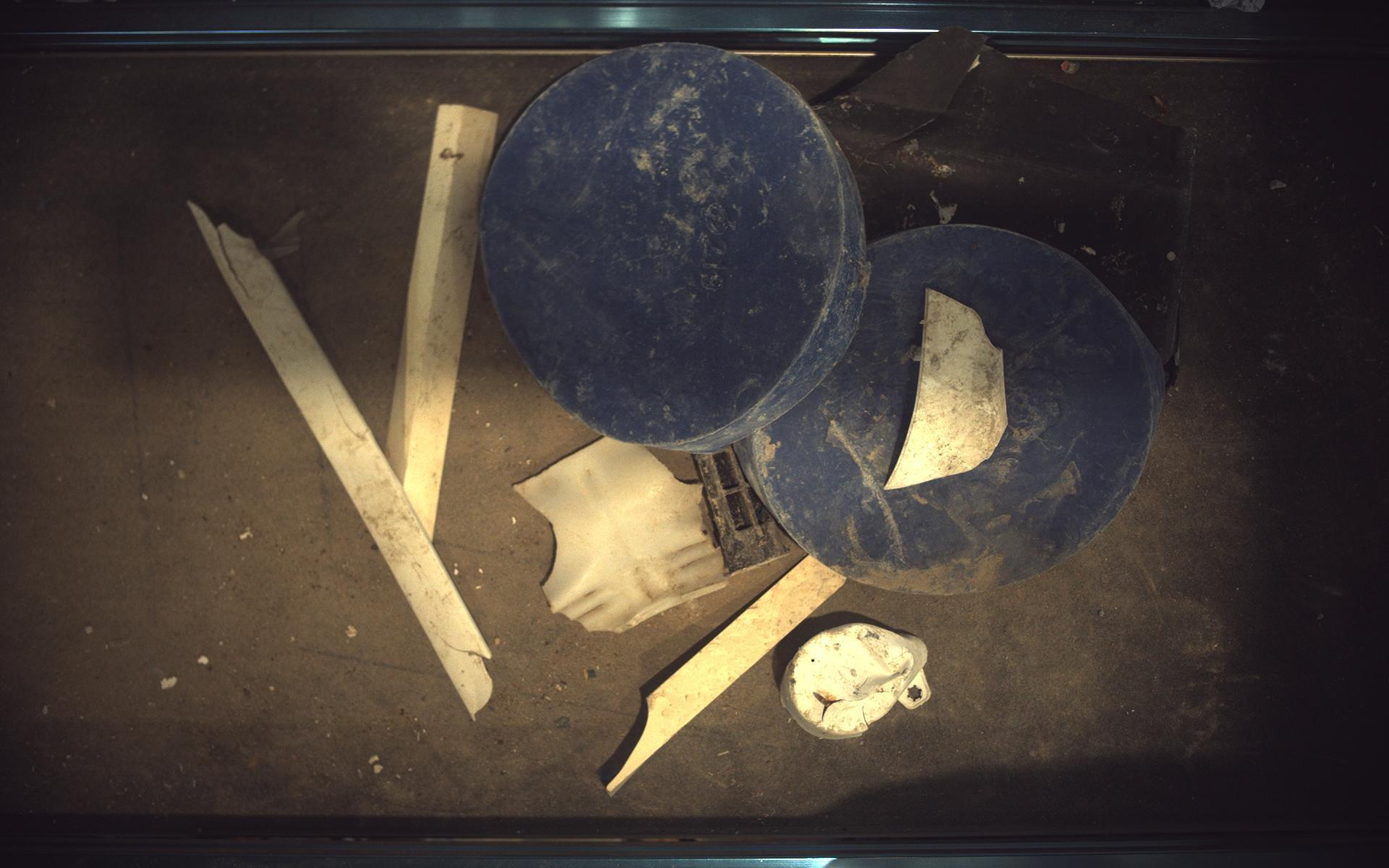plastic: (481, 42, 871, 453), (738, 225, 1167, 595), (187, 201, 492, 718), (819, 25, 1196, 364), (607, 556, 846, 796), (386, 103, 498, 539), (516, 437, 729, 633), (887, 288, 1009, 490), (783, 624, 933, 739), (694, 446, 792, 574)
